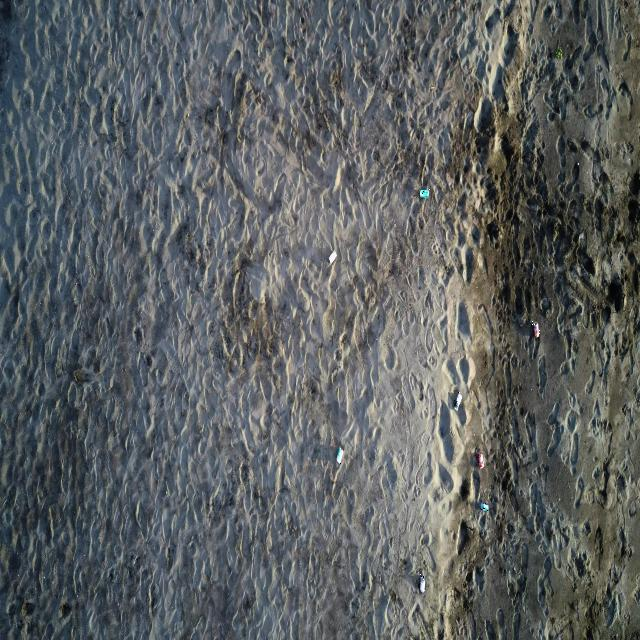tin-and-aluminum-cans: (336, 446, 345, 465), (454, 392, 462, 413), (328, 248, 338, 264), (419, 572, 426, 594), (532, 321, 540, 339), (478, 451, 485, 470), (420, 188, 430, 200), (480, 501, 490, 513)
